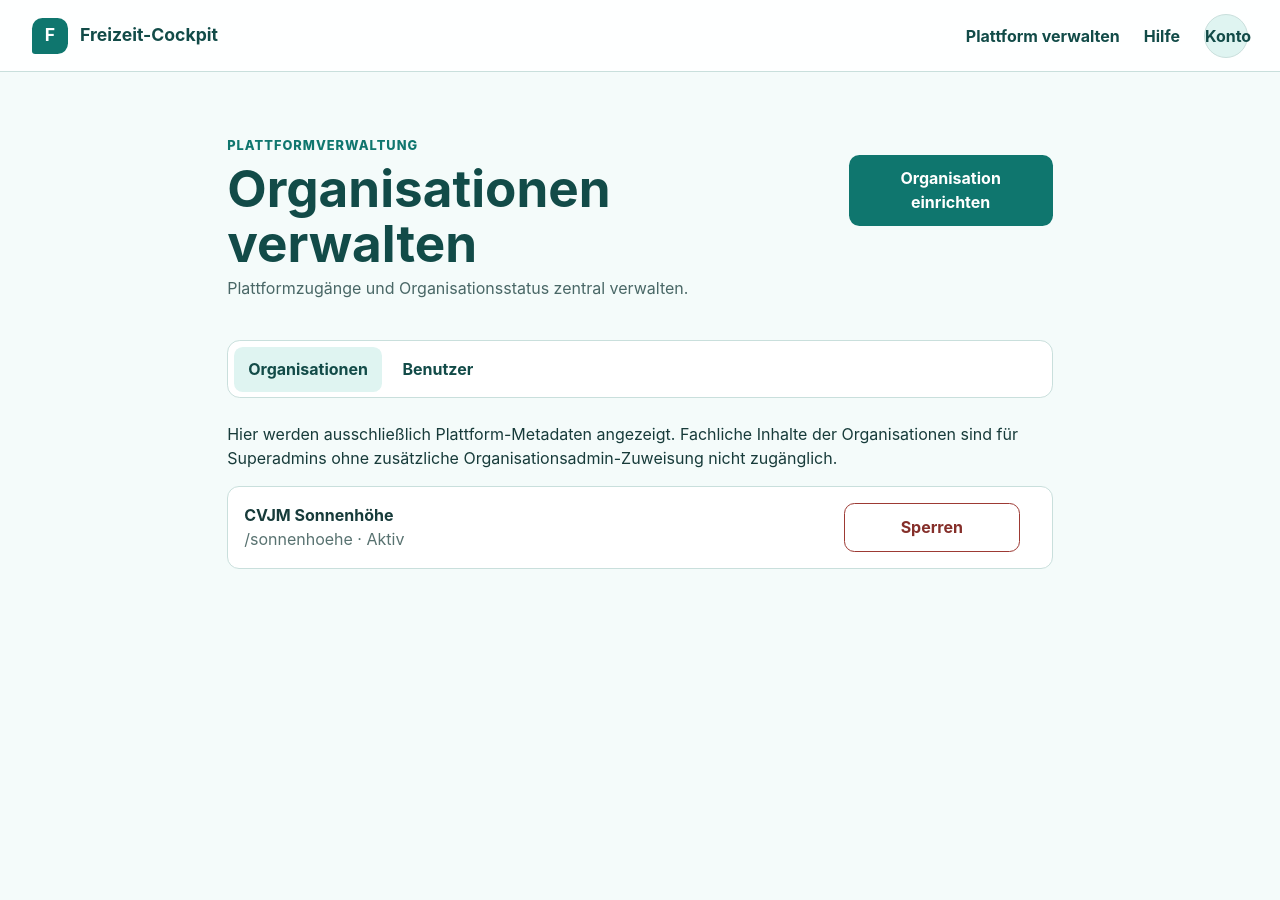
Test: identity self-service pages › changes organization metadata without exposing tenant content
This screenshot has width=1280, height=900.
Expected: the list item "CVJM Sonnenhöhe" is shown, [244,505,394,525]
Click the button "Sperren".
click(932, 527)  # box [844,503,1020,552]
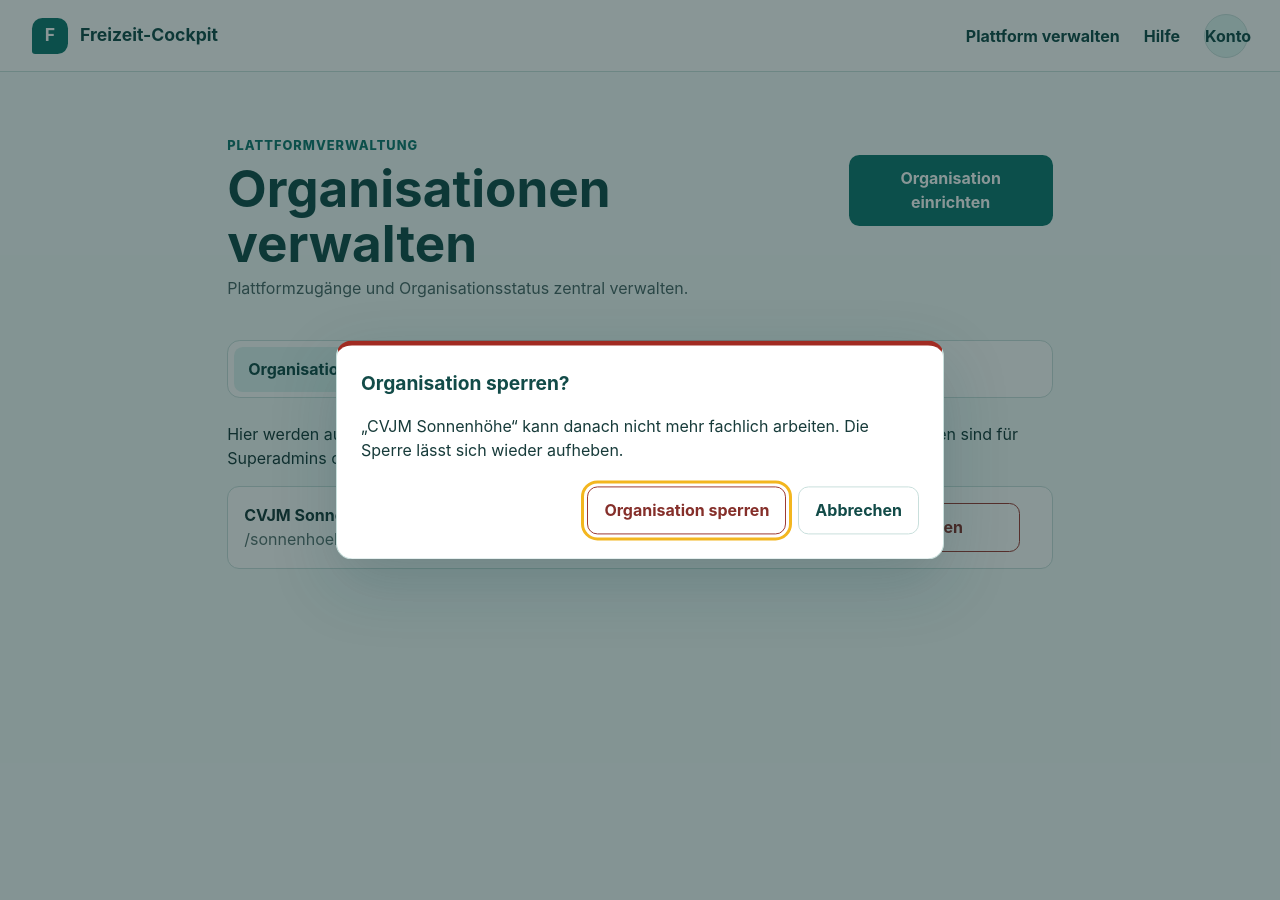
Click the button "Organisation sperren".
click(687, 510)  # box [587,486,786,535]
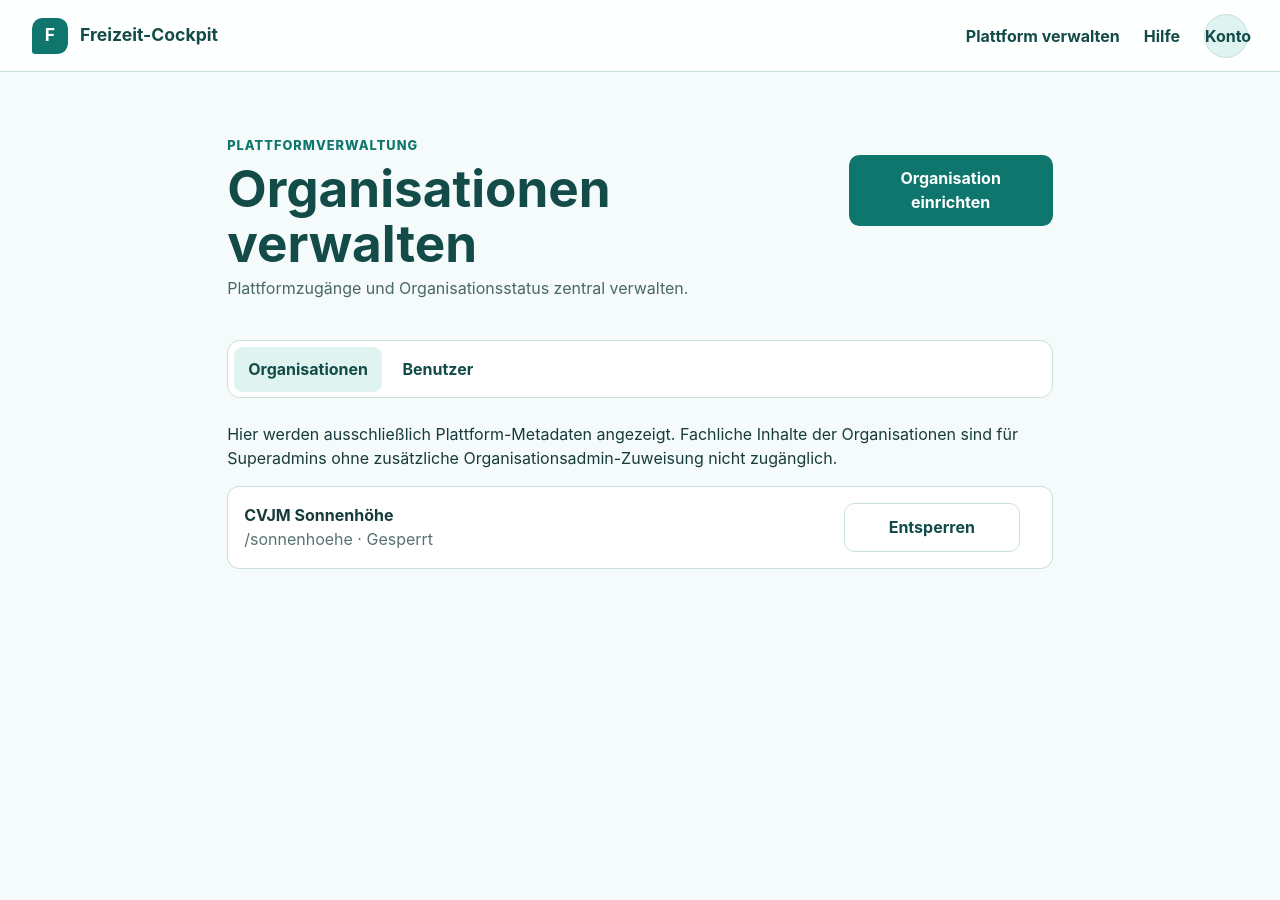
Expected: the text "Fachliche Inhalte der Organisationen" is shown, [227,424,1018,468]
Expected: the text "/sonnenhoehe · Gesperrt" is shown, [244,529,433,549]
